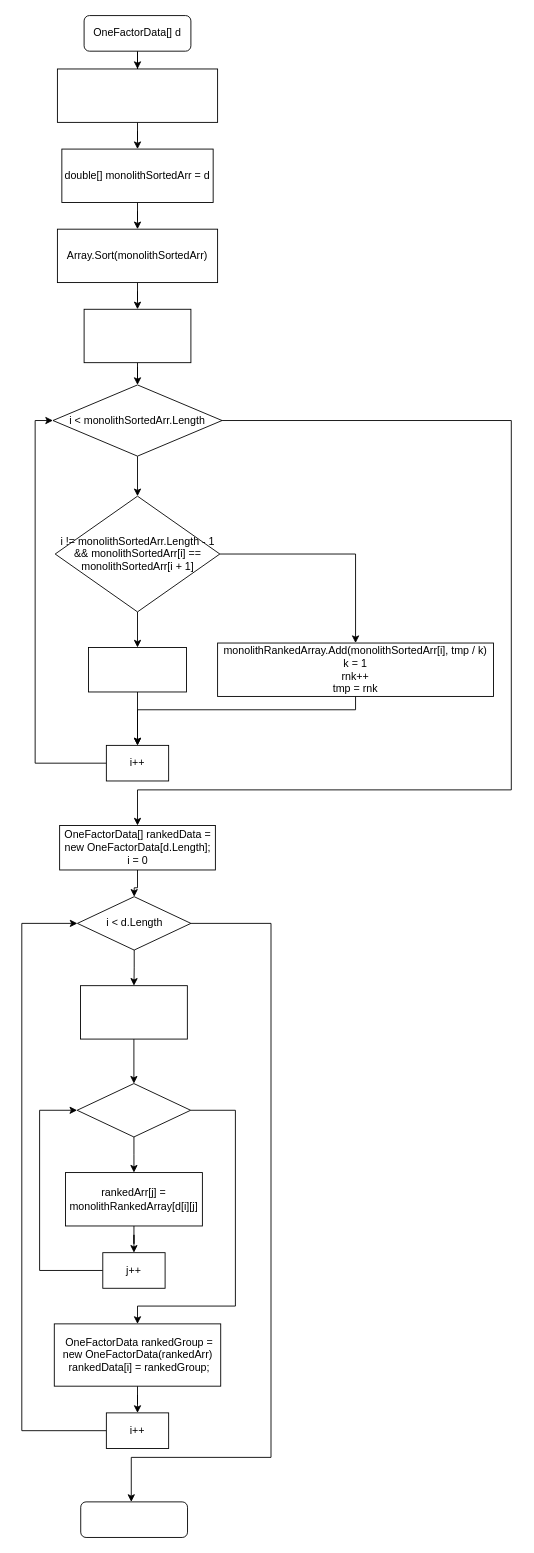
This 534x1553 diagram has some shape labels left out. The centre of each missing label's shape, as x and y in pixels:
"Dictionary<double, double> monolithRankedArray" belongs at [137,95].
"double[] rankedArr = new double[d[i].Length] j = 0" belongs at [133,1012].
"int rnk = 1 double tmp = rnk double k = 1 i = 0" belongs at [137,335].
"j < d[i].Length" belongs at [133,1110].
"rankedData" belongs at [134,1519].
"rnk++ tmp +=rnk k++" belongs at [137,669].
